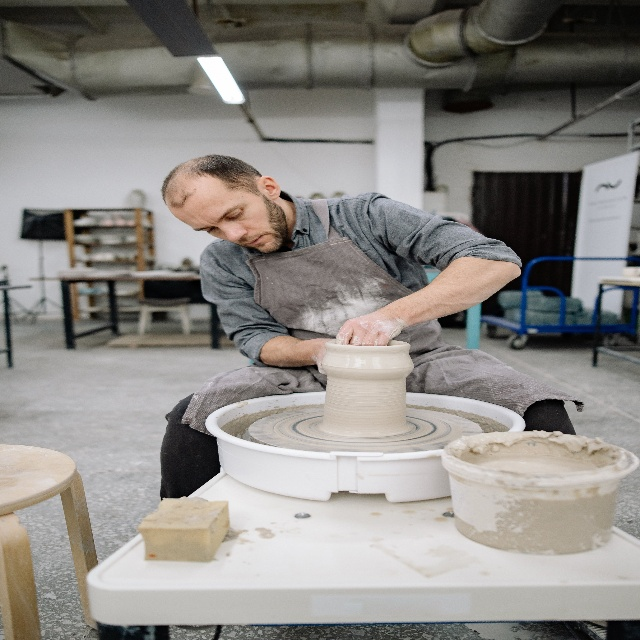Sin_guantes: (336, 305, 402, 346)
